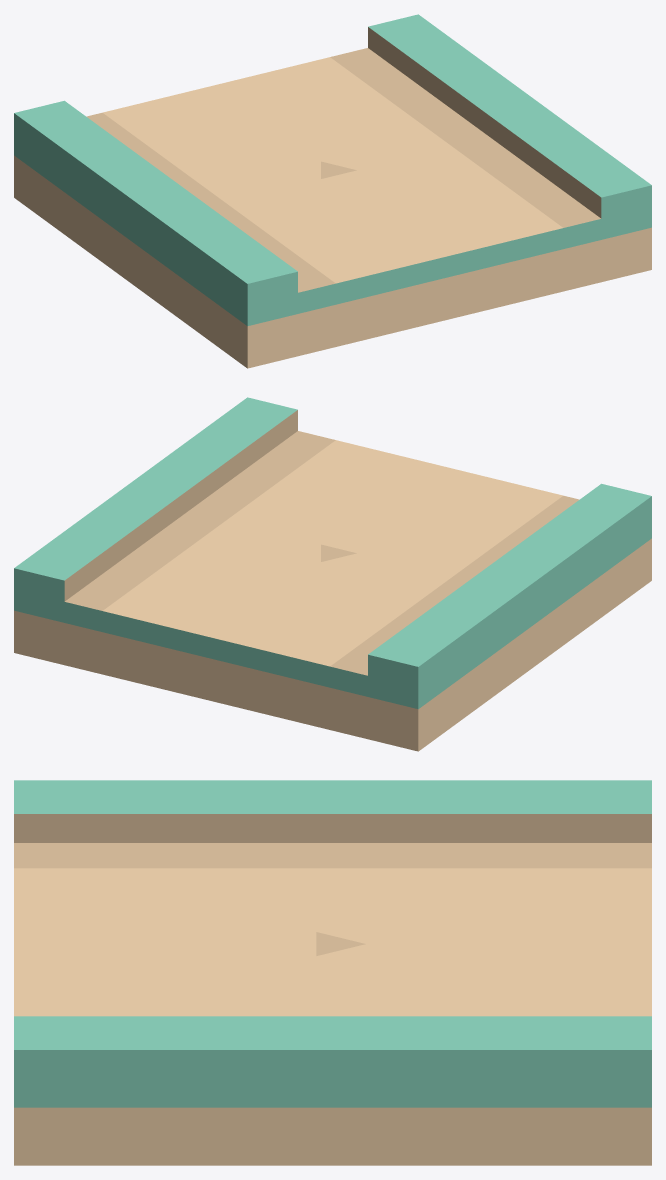
Rendered from tile_straight.glb.
3 renders of one model, top to bottom at view 1: azimuth 30°, elevation 25°; view 2: azimuth 150°, elevation 25°; view 3: azimuth 270°, elevation 25°, orthographic. The views are drawn at different scales.
Visible parts, largest first — view 1: tile_straight; view 2: tile_straight; view 3: tile_straight.
Boxes of the visible parts, x1,y1,x2,y2 form: tile_straight: (14,14,651,368); tile_straight: (14,397,651,751); tile_straight: (14,780,651,1165).
Size of the model in its own units: 1 by 0.2 by 1.
